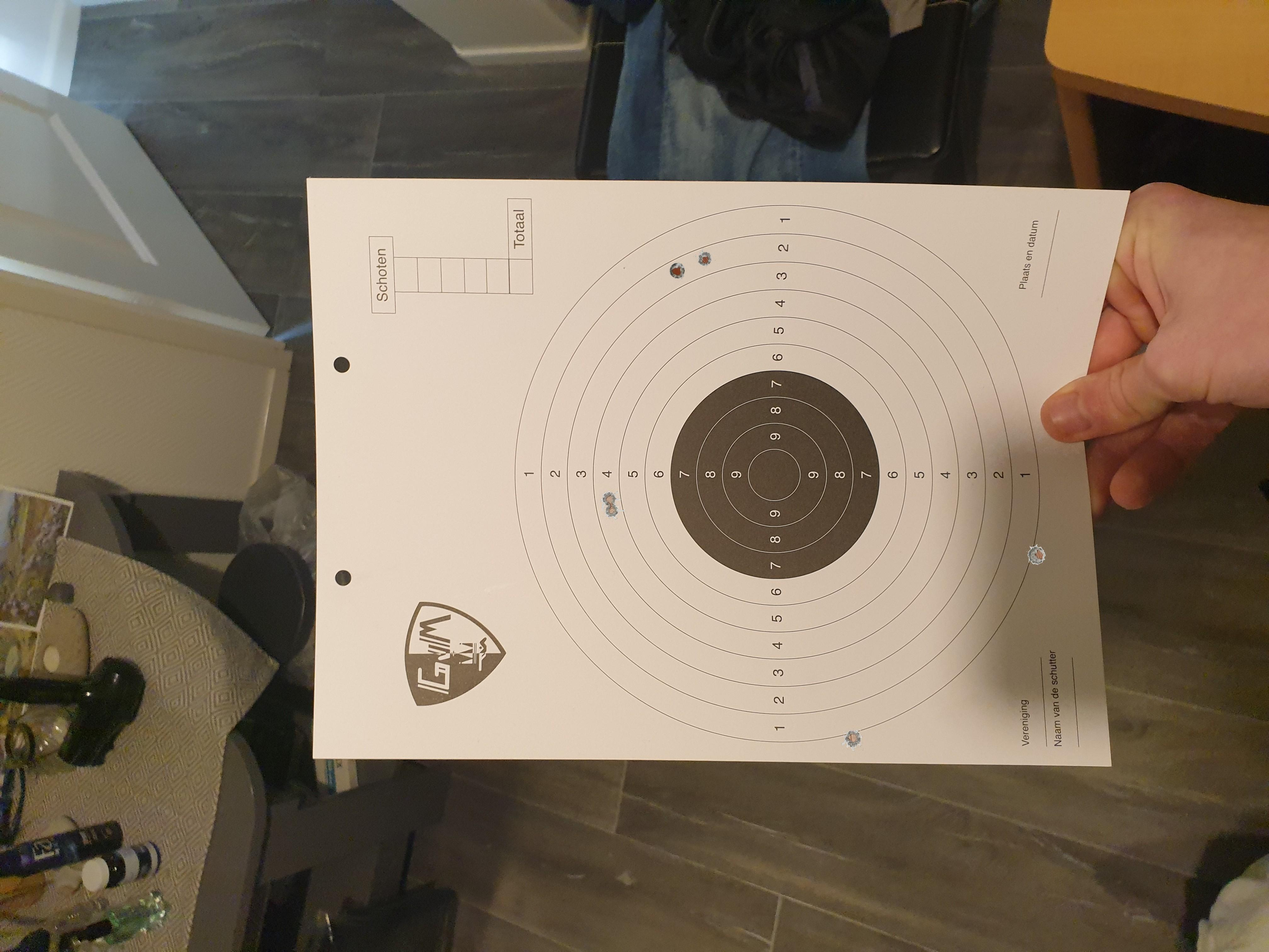hole: (841, 728, 863, 750), (1027, 543, 1046, 565), (600, 490, 621, 505), (604, 506, 625, 520), (669, 262, 685, 280), (697, 250, 712, 266)
